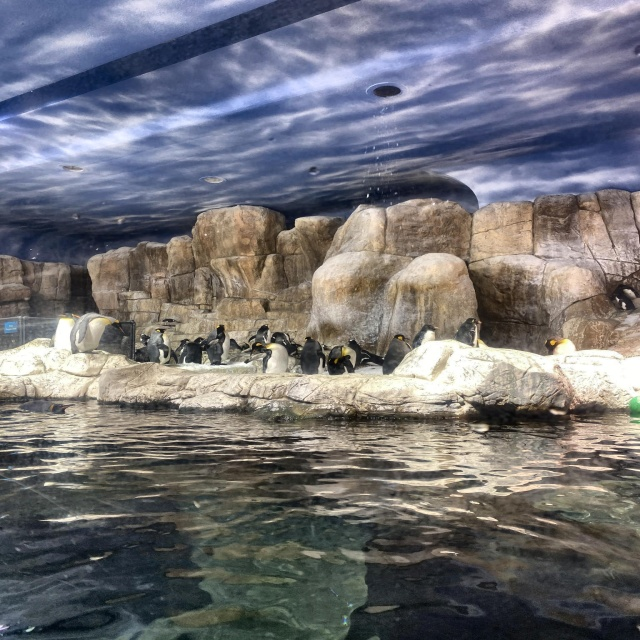penguin: (76, 308, 115, 355), (148, 325, 189, 367), (51, 309, 79, 352), (211, 321, 232, 346), (137, 335, 153, 355)
